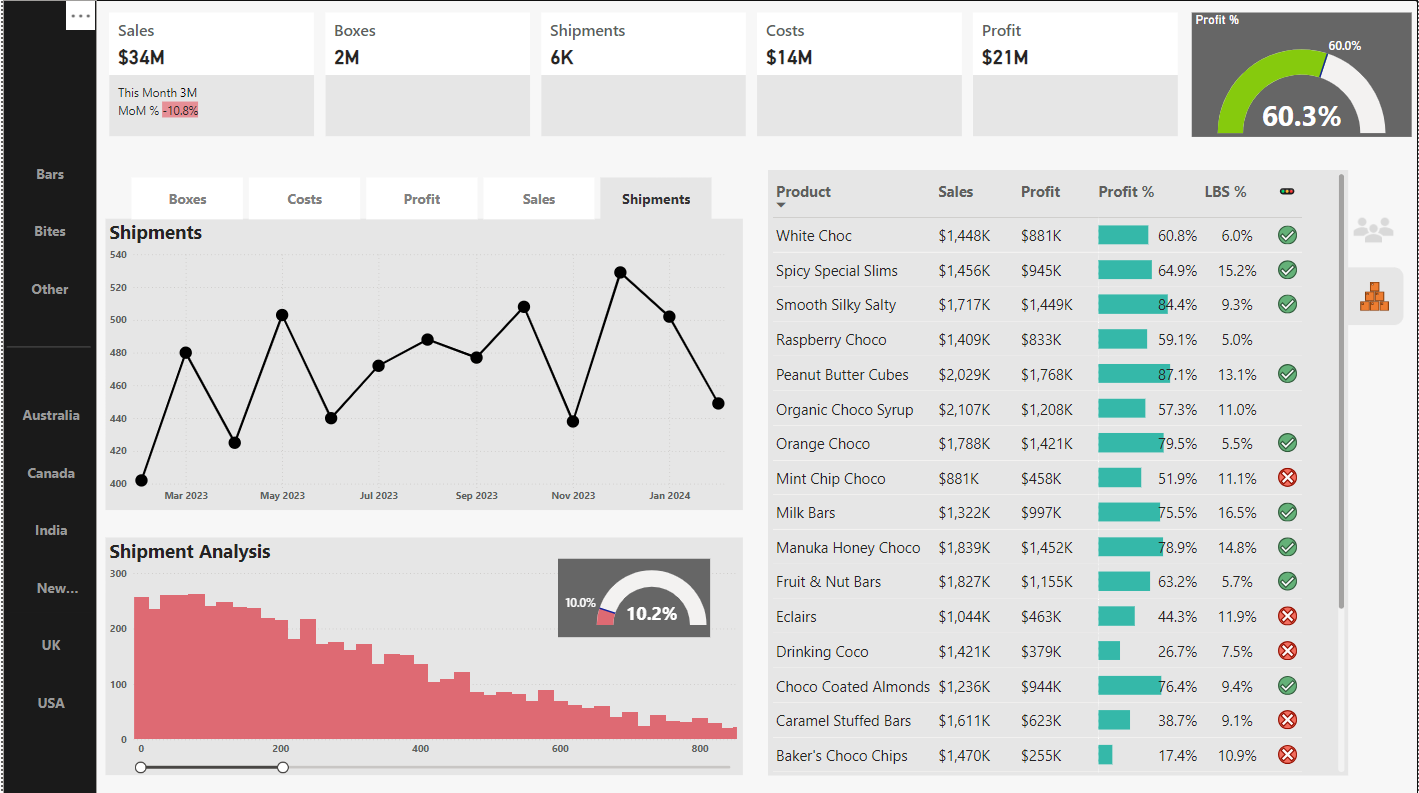

The page's visual inventory and layout, read from the dashboard file:
{"tool":"powerbi","page":{"name":"Page 2","canvas":[1920,1080],"ordinal":1},"visuals":[{"type":"cardVisual","fields":{"Data":["_Meaures.Total Sales","_Meaures.Total Boxes","_Meaures.Total Shipments","_Meaures.Total Costs","_Meaures.Total Profit"]},"box":[138.4,16.2,1461.6,169],"z":1000},{"type":"gauge","fields":{"Y":["_Meaures.Profit %"]},"box":[1613,16.2,298.4,169],"z":2000},{"type":"lineChart","fields":{"Y":["_Meaures.Total Shipments"],"Category":["calendar.Start of Month"]},"box":[138.4,297,864.7,395.5],"z":3000},{"type":"advancedSlicerVisual","fields":{"Values":["Measure Selector.Measure Selector"]},"box":[169,240,801.8,57.5],"z":4000},{"type":"clusteredColumnChart","title":"Shipment Analysis","fields":{"Category":["shipments.Boxes (bins)"],"Y":["_Meaures.Total Shipments"]},"box":[139.1,729.3,865,322.2],"z":5000},{"type":"gauge","fields":{"Y":["_Meaures.LBS %"]},"box":[753.3,758.7,206.7,106.1],"z":6000},{"type":"image","title":"Product Colored Image","box":[1812,357.8,98.9,88.1],"z":9000},{"type":"shape","box":[0,0,127.2,1080.3],"z":10000},{"type":"image","title":"Person Image","box":[1822.2,277,75.7,71.4],"z":11000},{"type":"tableEx","title":"Product Table","fields":{"Values":["products.Product","_Meaures.Total Sales","_Meaures.Total Profit","_Meaures.Profit %","_Meaures.LBS %","_Meaures.Profit Target Indicator"]},"box":[1037.3,230.1,787.4,821.6],"z":13000},{"type":"advancedSlicerVisual","fields":{"Values":["products.Category"]},"box":[0,195,127.2,237.4],"z":14000},{"type":"advancedSlicerVisual","fields":{"Values":["locations.Geo"]},"box":[1.7,522.4,127.2,471.5],"z":15000},{"type":"shape","box":[5,446,113.6,49.2],"z":15500}]}

Visuals, with their boxes on the page's 1920x1080 design canvas (x1, y1, x2, y2). These are canvas units, not pixel positions in the 1419x793 screenshot, which may show the page scaled, cropped or inside an application window:
cardVisual - _Meaures.Total Sales x _Meaures.Total Boxes: box(138, 16, 1600, 185)
gauge - _Meaures.Profit %: box(1613, 16, 1911, 185)
lineChart - _Meaures.Total Shipments x calendar.Start of Month: box(138, 297, 1003, 692)
advancedSlicerVisual - Measure Selector.Measure Selector: box(169, 240, 971, 298)
"Shipment Analysis" clusteredColumnChart: box(139, 729, 1004, 1052)
gauge - _Meaures.LBS %: box(753, 759, 960, 865)
"Product Colored Image" image: box(1812, 358, 1911, 446)
shape: box(0, 0, 127, 1080)
"Person Image" image: box(1822, 277, 1898, 348)
"Product Table" tableEx: box(1037, 230, 1825, 1052)
advancedSlicerVisual - products.Category: box(0, 195, 127, 432)
advancedSlicerVisual - locations.Geo: box(2, 522, 129, 994)
shape: box(5, 446, 119, 495)
